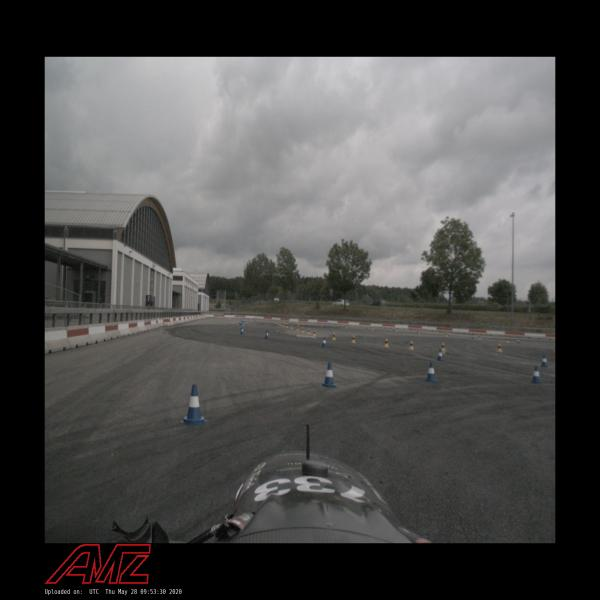blue_cone: (179, 384, 208, 424), (321, 362, 337, 388), (424, 362, 438, 382), (530, 364, 542, 384), (540, 354, 548, 367), (264, 329, 269, 340), (240, 326, 244, 335), (517, 338, 520, 344)
yellow_cone: (436, 346, 446, 360), (496, 343, 503, 352), (384, 338, 390, 347), (409, 340, 415, 349), (332, 333, 337, 340), (322, 339, 327, 346), (352, 335, 356, 343), (506, 336, 510, 343), (301, 326, 305, 333), (307, 328, 310, 335), (313, 331, 316, 336), (296, 326, 299, 331)
